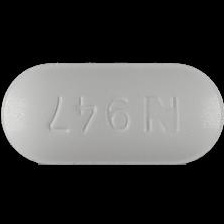33261-227: (0, 0, 224, 224)
